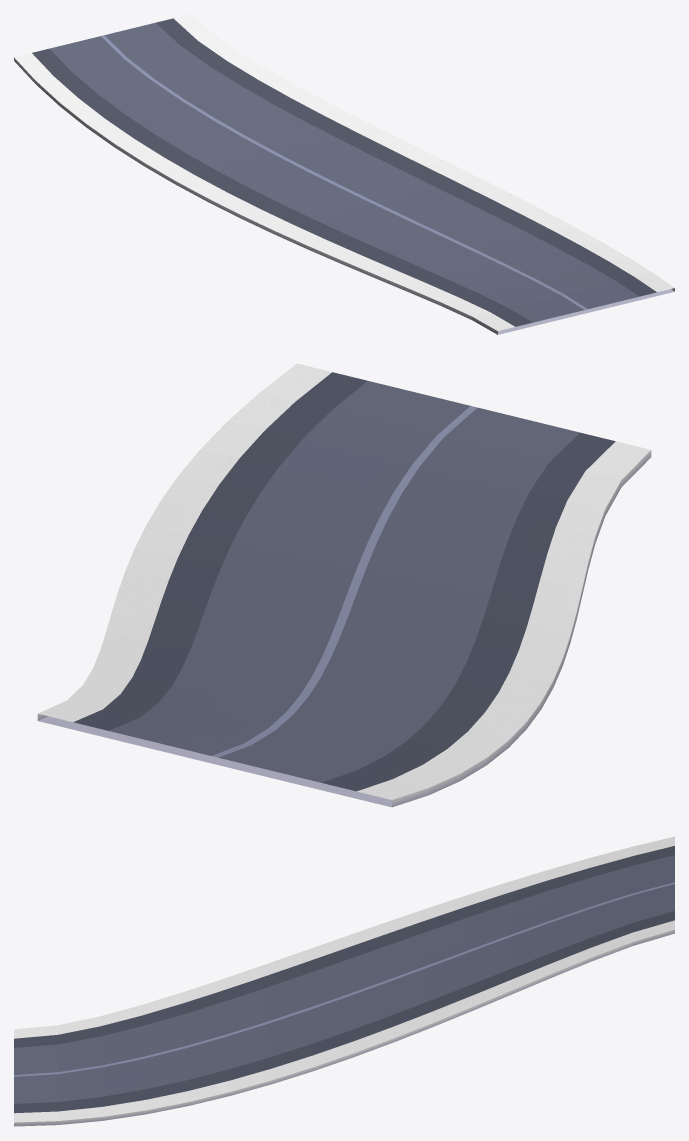
Rendered from road-Chicane-Flat-BiSlopeUp-Up2-Left1-Size3.glb.
3 views of the same model, one above another, from view 1: azimuth 30°, elevation 25°; view 2: azimuth 150°, elevation 25°; view 3: azimuth 270°, elevation 25° (orthographic). The views are drawn at different scales.
Visible parts, largest first — view 1: road-Chicane-Flat-BiSlopeUp-Up2-Left1-Size3; view 2: road-Chicane-Flat-BiSlopeUp-Up2-Left1-Size3; view 3: road-Chicane-Flat-BiSlopeUp-Up2-Left1-Size3.
Boxes of the visible parts, x1,y1,x2,y2 form: road-Chicane-Flat-BiSlopeUp-Up2-Left1-Size3: (14,14,674,334); road-Chicane-Flat-BiSlopeUp-Up2-Left1-Size3: (37,363,651,807); road-Chicane-Flat-BiSlopeUp-Up2-Left1-Size3: (14,836,674,1126).
Bounding box in the file's own units: 2 × 0.52 × 3.
Materials: 1 (1 with a texture image).
